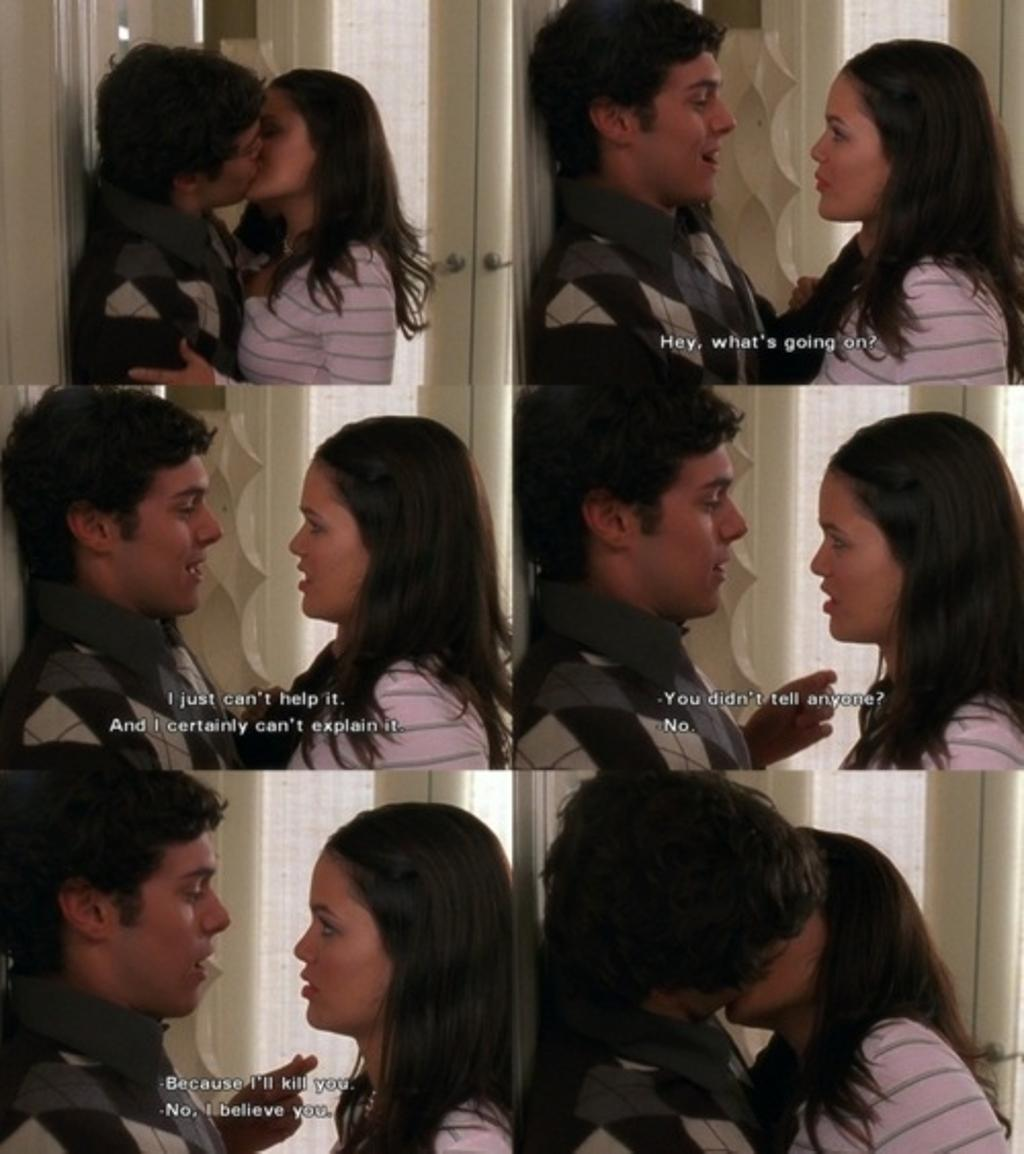face: (125, 840, 235, 1018), (647, 433, 751, 618), (291, 861, 390, 1030), (120, 456, 226, 611), (813, 474, 901, 643), (654, 51, 742, 200), (289, 467, 370, 618), (813, 87, 887, 222), (244, 87, 314, 200), (195, 111, 263, 215)
